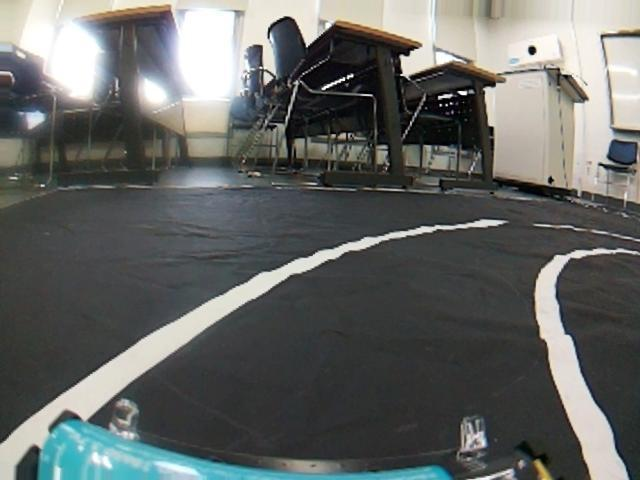right: (0, 194, 640, 480)
